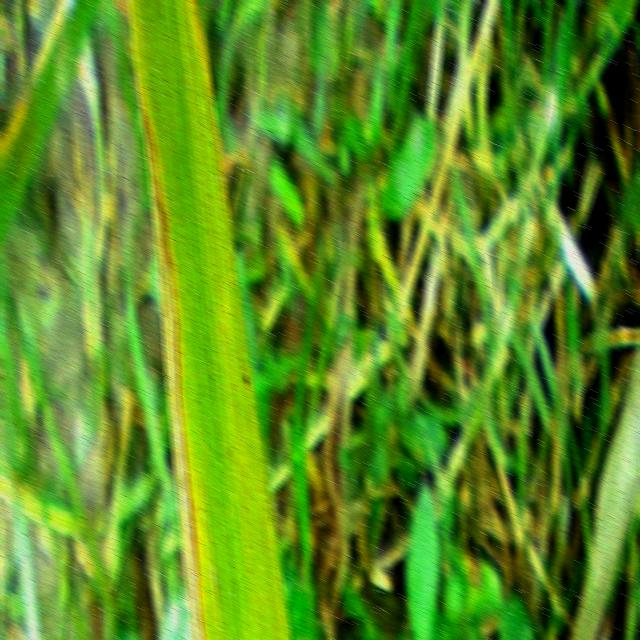BLB: (135, 68, 208, 640)
